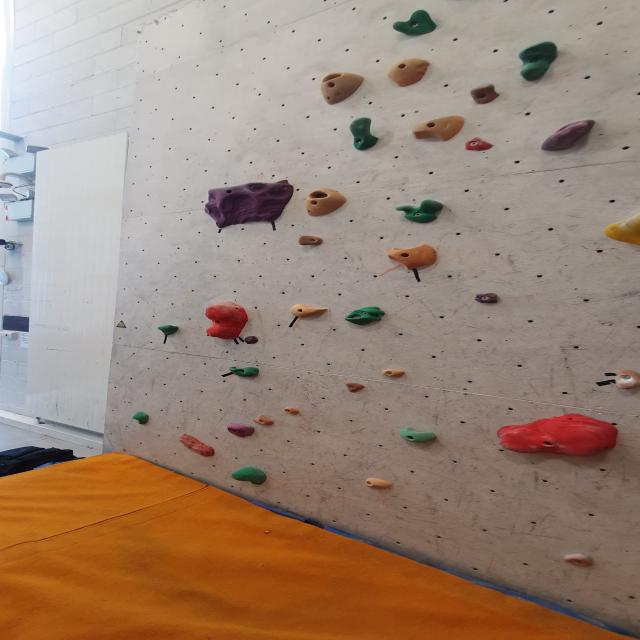Crimp: (199, 182, 296, 230), (177, 436, 217, 459), (289, 304, 331, 320), (462, 136, 494, 153), (560, 554, 596, 569), (363, 478, 393, 492), (343, 382, 367, 394), (380, 368, 406, 378), (282, 406, 304, 416)
Jug: (514, 40, 563, 81), (394, 201, 446, 227), (390, 11, 440, 38), (347, 117, 382, 152), (609, 367, 640, 393), (398, 426, 439, 444), (467, 84, 500, 106), (229, 366, 262, 378), (296, 236, 324, 248), (158, 324, 181, 336)
Pinch: (535, 118, 599, 153), (409, 114, 468, 142), (386, 56, 436, 87), (384, 243, 441, 270), (253, 416, 278, 427)
Pocket: (316, 72, 368, 107), (303, 188, 348, 218), (345, 307, 388, 327)
Sloper: (496, 414, 624, 458), (203, 301, 252, 340), (602, 208, 640, 246), (230, 468, 268, 488), (225, 422, 257, 438), (133, 412, 150, 427)
